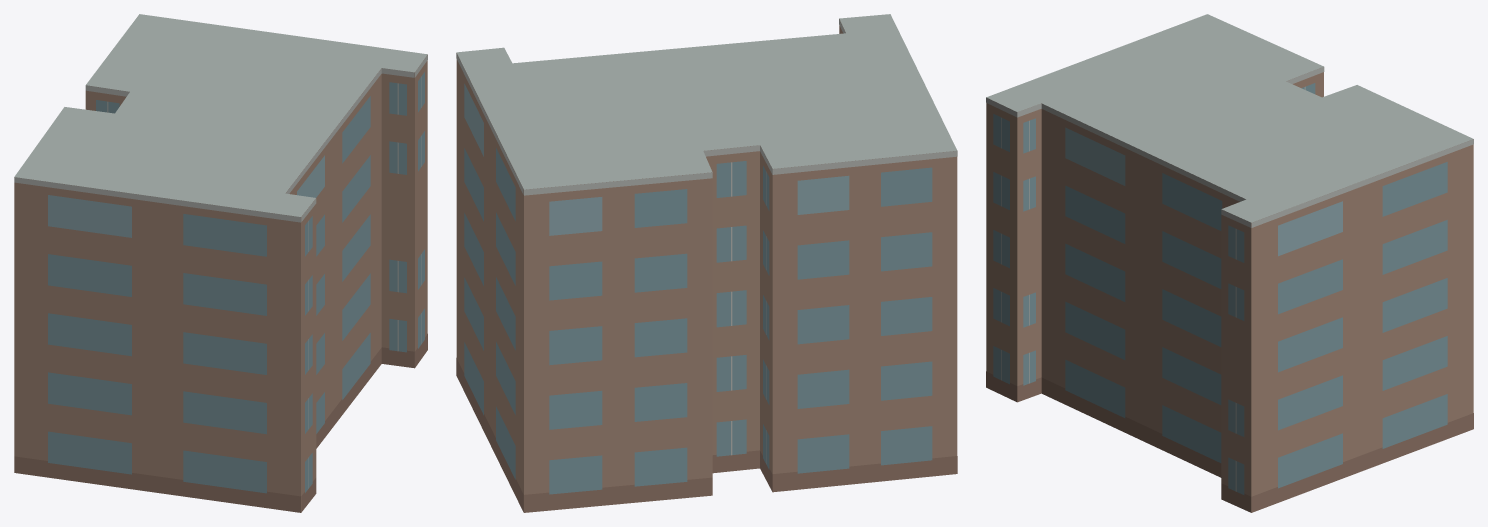
Rendered from survey-upis-32598146.glb.
3 renders of one model, left to right at view 1: azimuth 30°, elevation 25°; view 2: azimuth 150°, elevation 25°; view 3: azimuth 270°, elevation 25°, orthographic. The views are drawn at different scales.
Parts seen in each view (by area): view 1: survey-upis-32598146.tmp; view 2: survey-upis-32598146.tmp; view 3: survey-upis-32598146.tmp.
Boxes of the visible parts, x1,y1,x2,y2 form: survey-upis-32598146.tmp: (14,14,427,512); survey-upis-32598146.tmp: (456,14,957,512); survey-upis-32598146.tmp: (986,14,1473,512).
Bounding box in the file's own units: 20.29 × 13.15 × 20.03.
